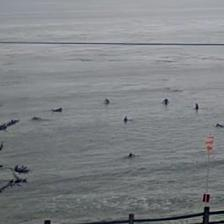surfer: (51, 107, 62, 113), (162, 98, 169, 106), (29, 116, 40, 121), (104, 98, 110, 104), (195, 103, 199, 110), (124, 116, 128, 123), (129, 152, 133, 158), (215, 124, 222, 127)
